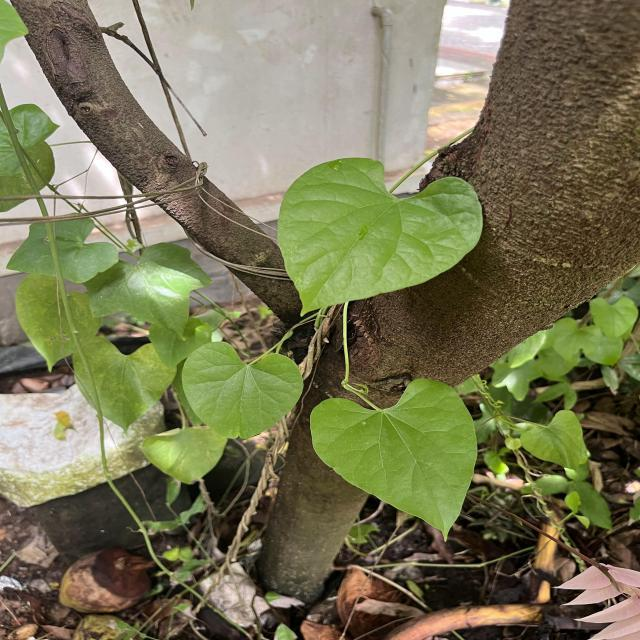Tinospora cordifolia: (274, 154, 486, 319), (306, 375, 480, 544), (180, 339, 306, 441)
